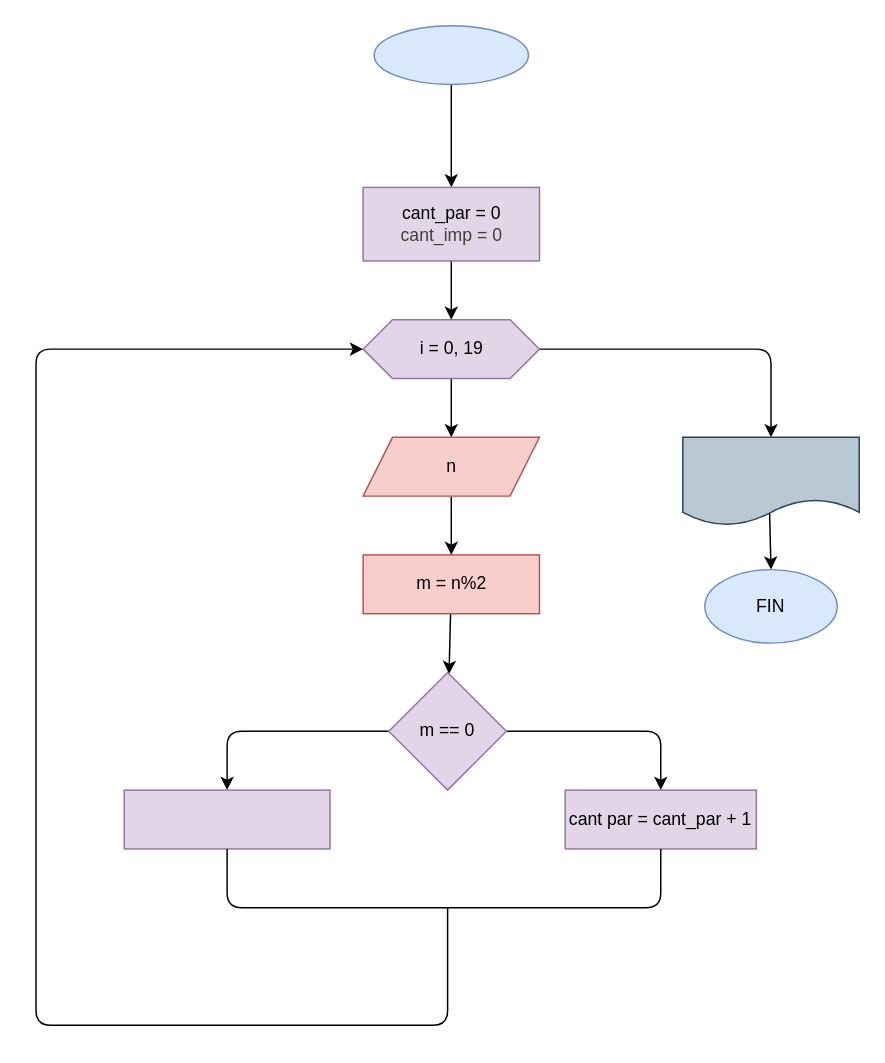
Image size: 885x1063. Some labels were removed from this diagram. The shapes that lost their labels are listed below. From the top down, each one's box as (x1, y1, x2, y2) in pixels, then its label:
(373, 24, 528, 85): INICIO
(681, 436, 859, 526): cant_par cant_imp
(123, 789, 330, 849): cant imp = cant_imp + 1
